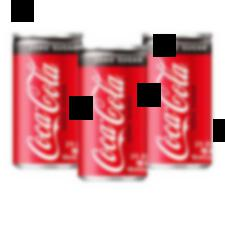cocacola_zero: (75, 44, 148, 182), (149, 31, 213, 170), (12, 31, 74, 171)
